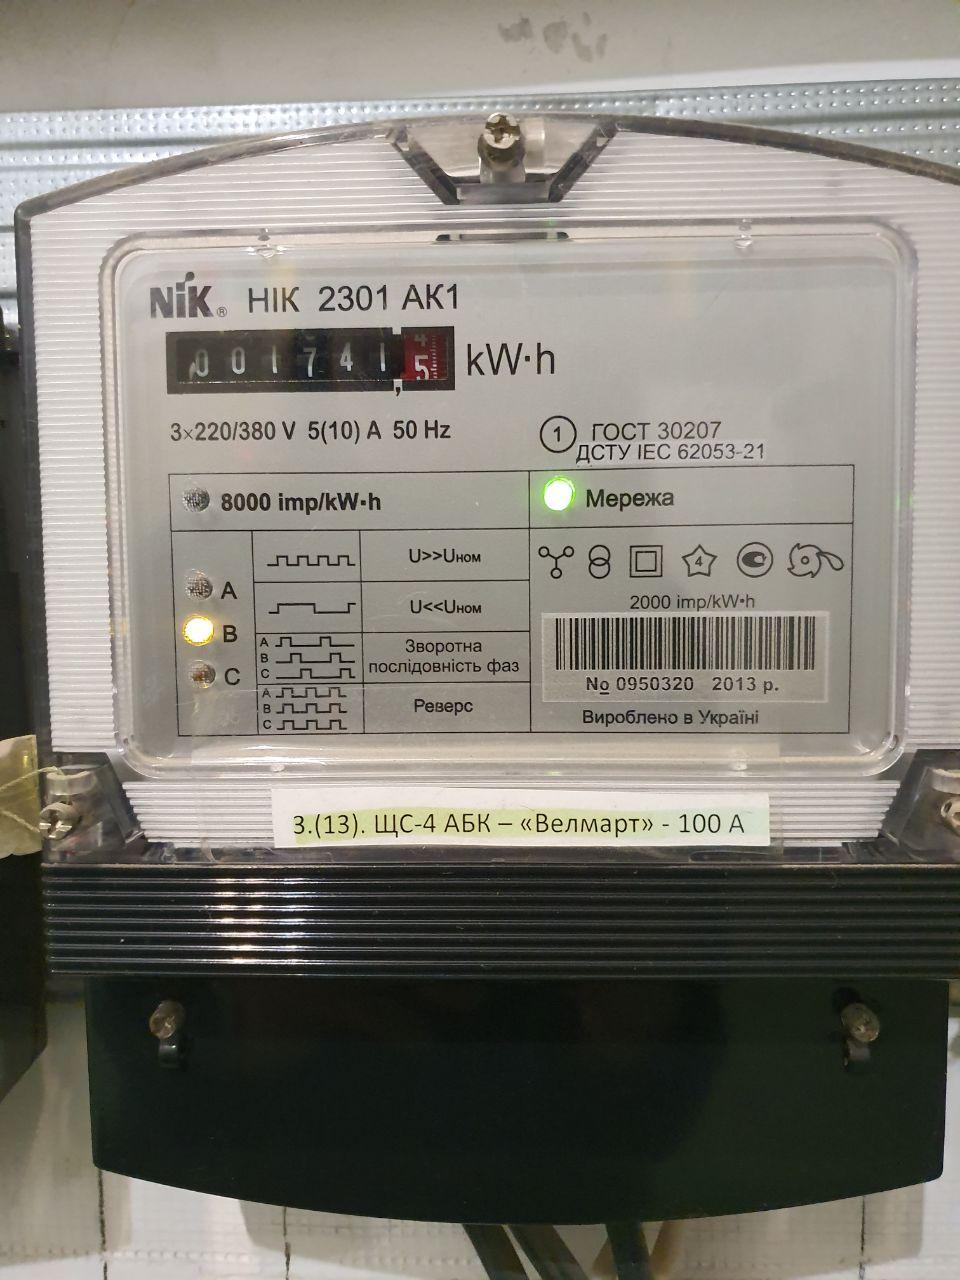0: (229, 343, 248, 377), (193, 346, 212, 379)
1: (265, 341, 282, 377), (375, 340, 390, 375)
4: (337, 339, 357, 374), (413, 331, 429, 349)
5: (412, 351, 431, 382)
7: (301, 344, 318, 379)
screen: (160, 321, 463, 401)
